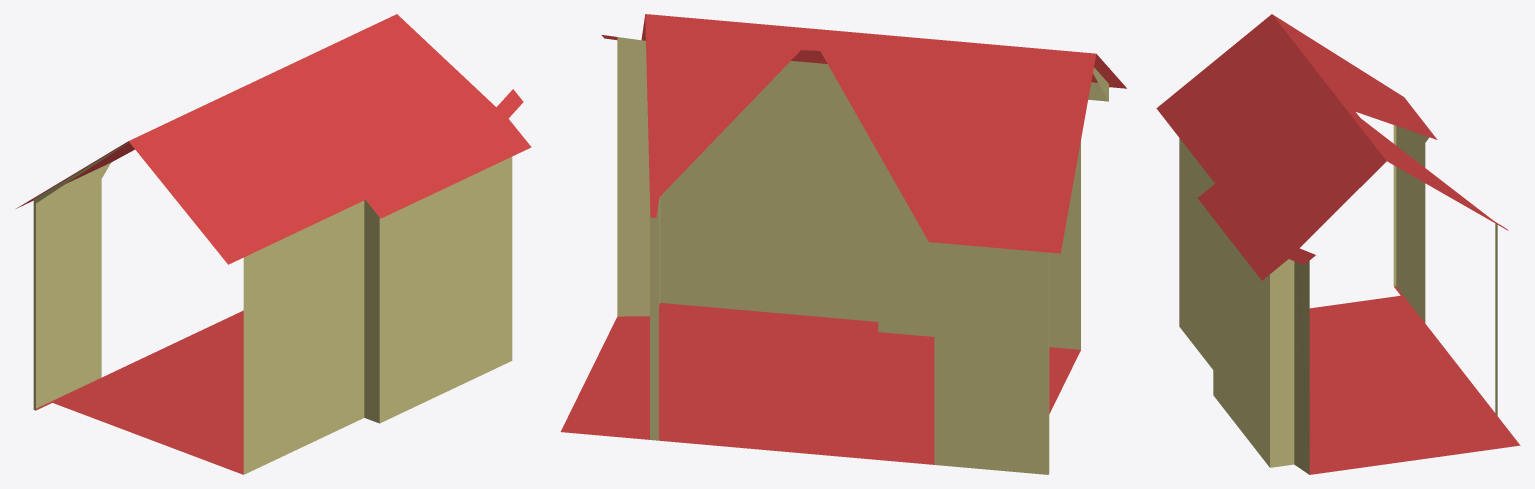
3 renders of one model, left to right at view 1: azimuth 30°, elevation 25°; view 2: azimuth 150°, elevation 25°; view 3: azimuth 270°, elevation 25°, orthographic. The views are drawn at different scales.
Bounding box in the file's own units: 19.07 × 14.55 × 12.52.
